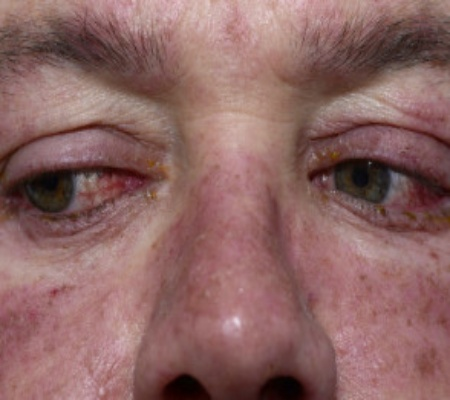SJS-TEN: (55, 133, 191, 237), (366, 153, 450, 261), (278, 119, 364, 208), (0, 178, 34, 235)
